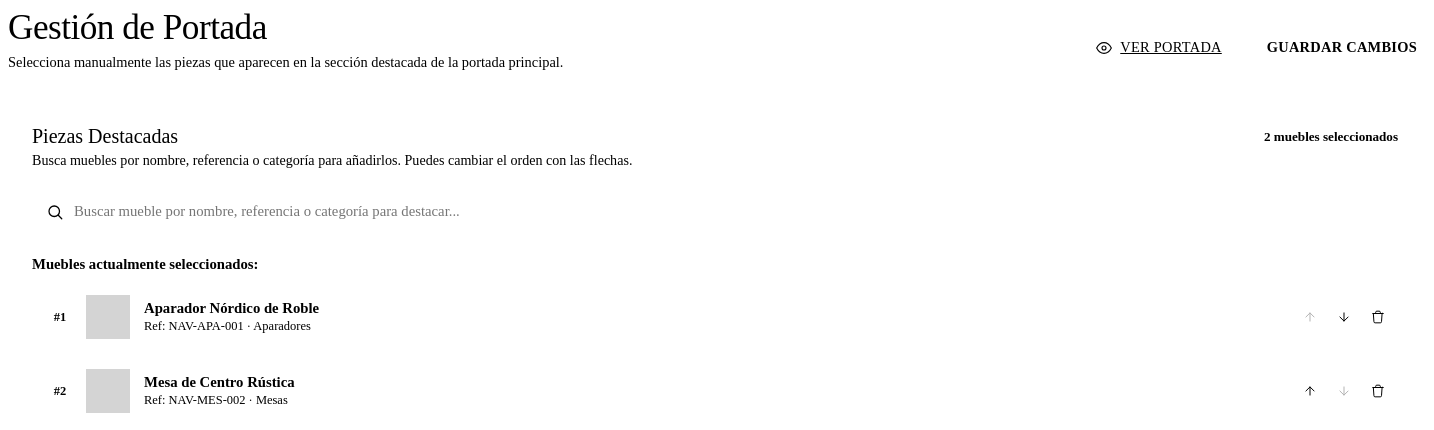
it: PortadaTab — Pestaña de Portada en el Panel de Administración › permite quitar y reordenar un mueble de la lista de destacados
Expected: the text "Aparador Nórdico de Roble" is shown, [144, 300, 319, 316]
# Mover m1 abajo
Click the button named "Mover Aparador Nórdico de Roble abajo". click: (1344, 317)
box: [1330, 303, 1358, 331]
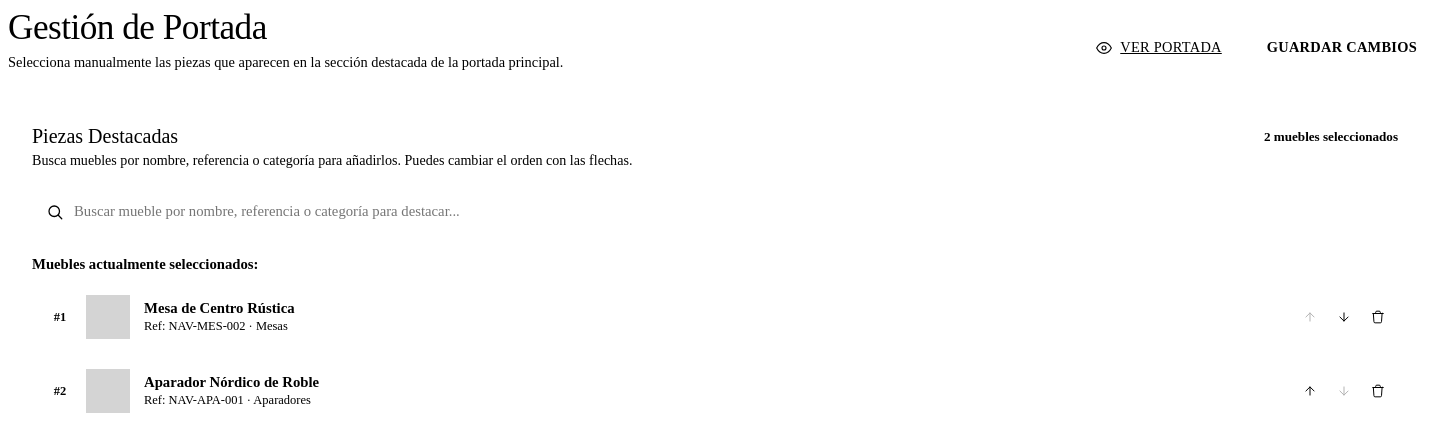
# Quitar m1 de destacados
Click the button named "Quitar Aparador Nórdico de Roble de destacados". click: (1378, 391)
box: [1364, 377, 1392, 405]
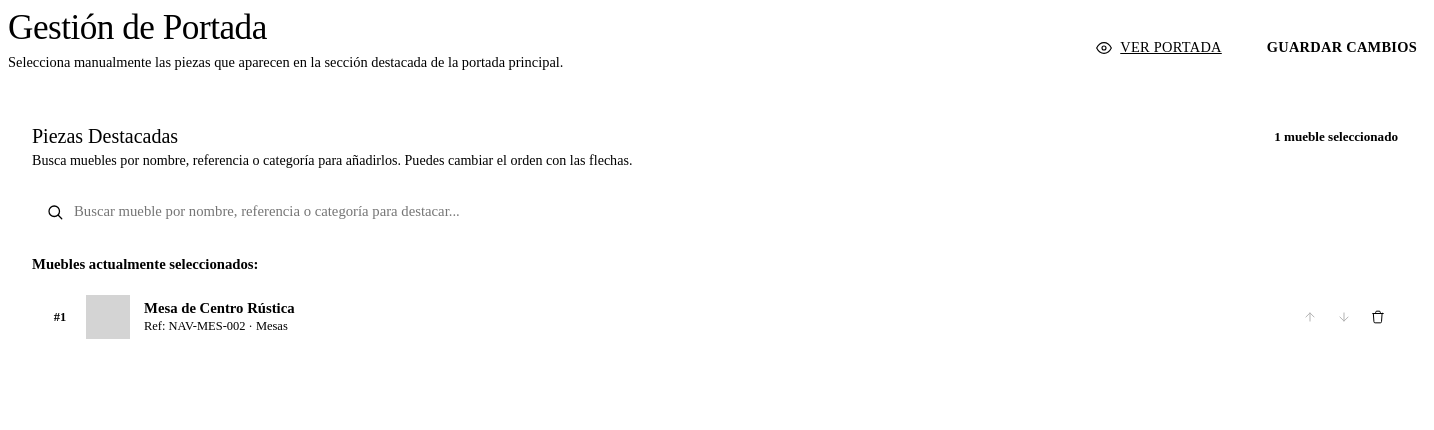
Expected: the text "Aparador Nórdico de Roble" is gone
Expected: the text "1 mueble seleccionado" is shown, [1264, 125, 1408, 149]
